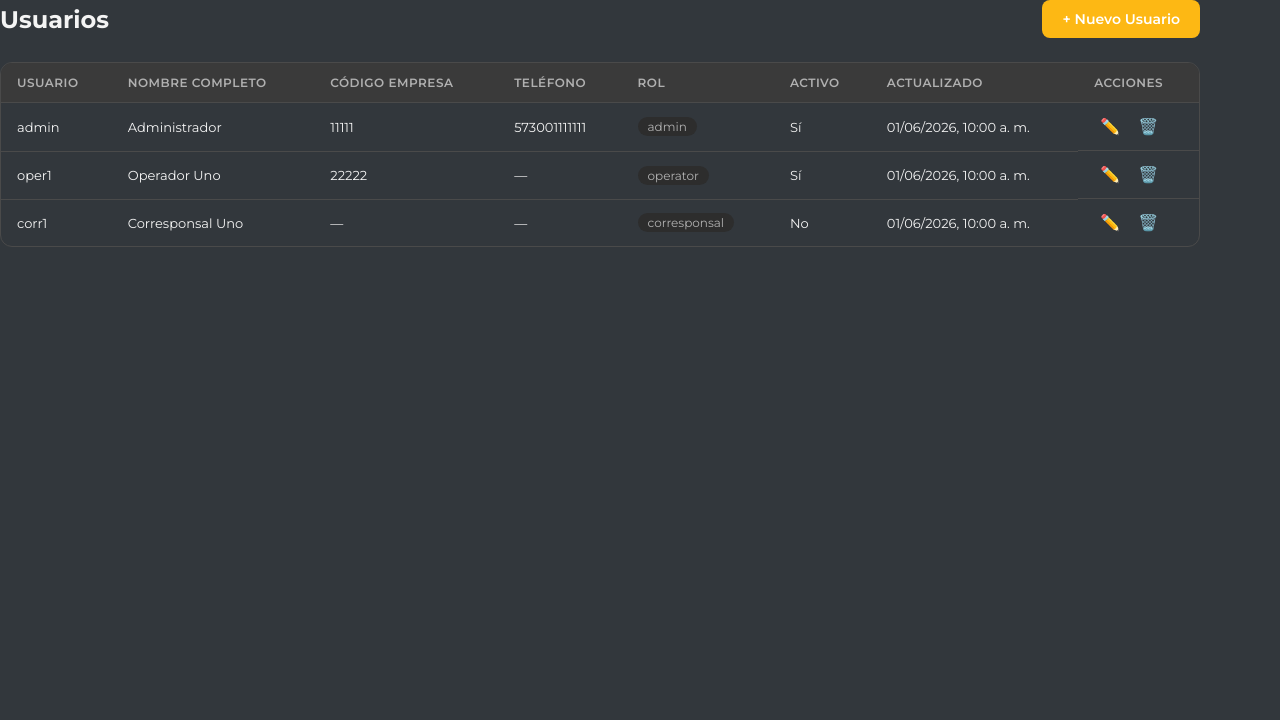
Scenario: AdminUsers — crear usuario (R3) › abre modal al pulsar '+ Nuevo Usuario'
Click the button "+ Nuevo Usuario".
click(1121, 19)  # box [1042,0,1200,38]
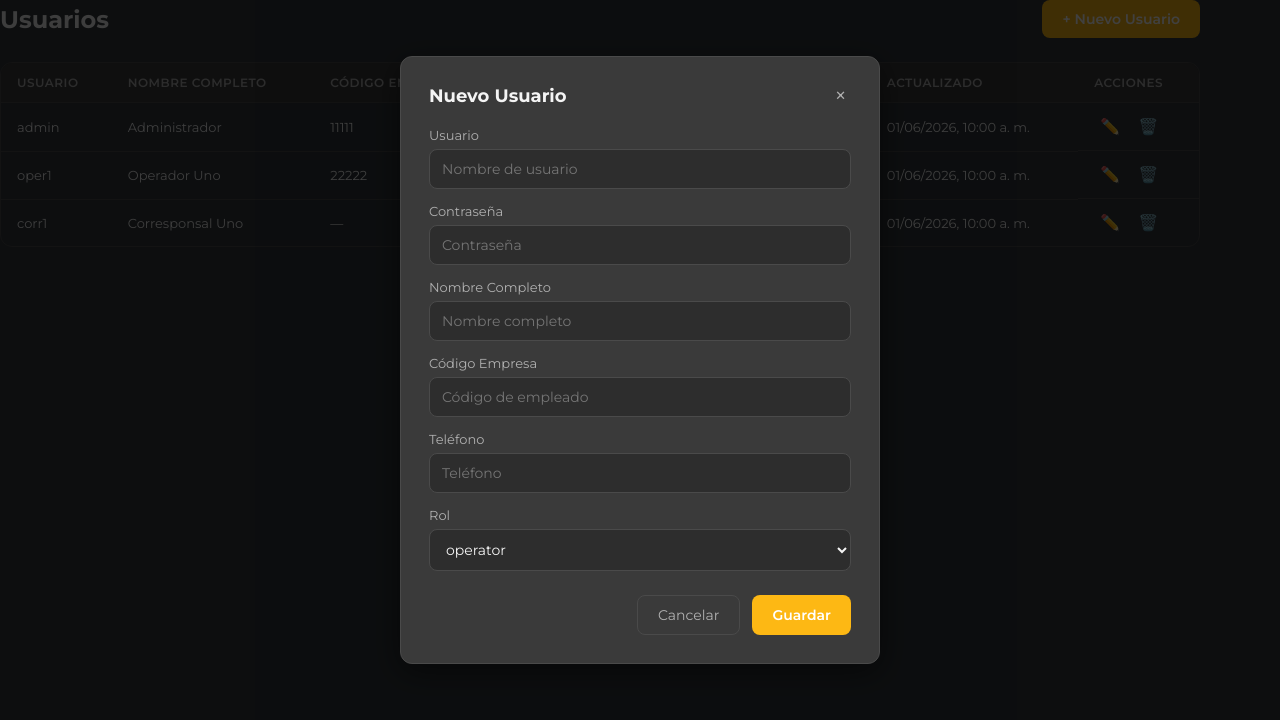
Now the heading "Nuevo Usuario" is shown, box [429,85,567,107]
